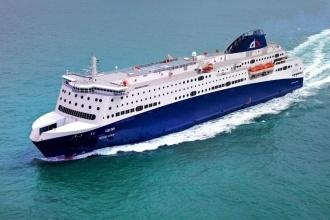youlun: (26, 22, 308, 157)
